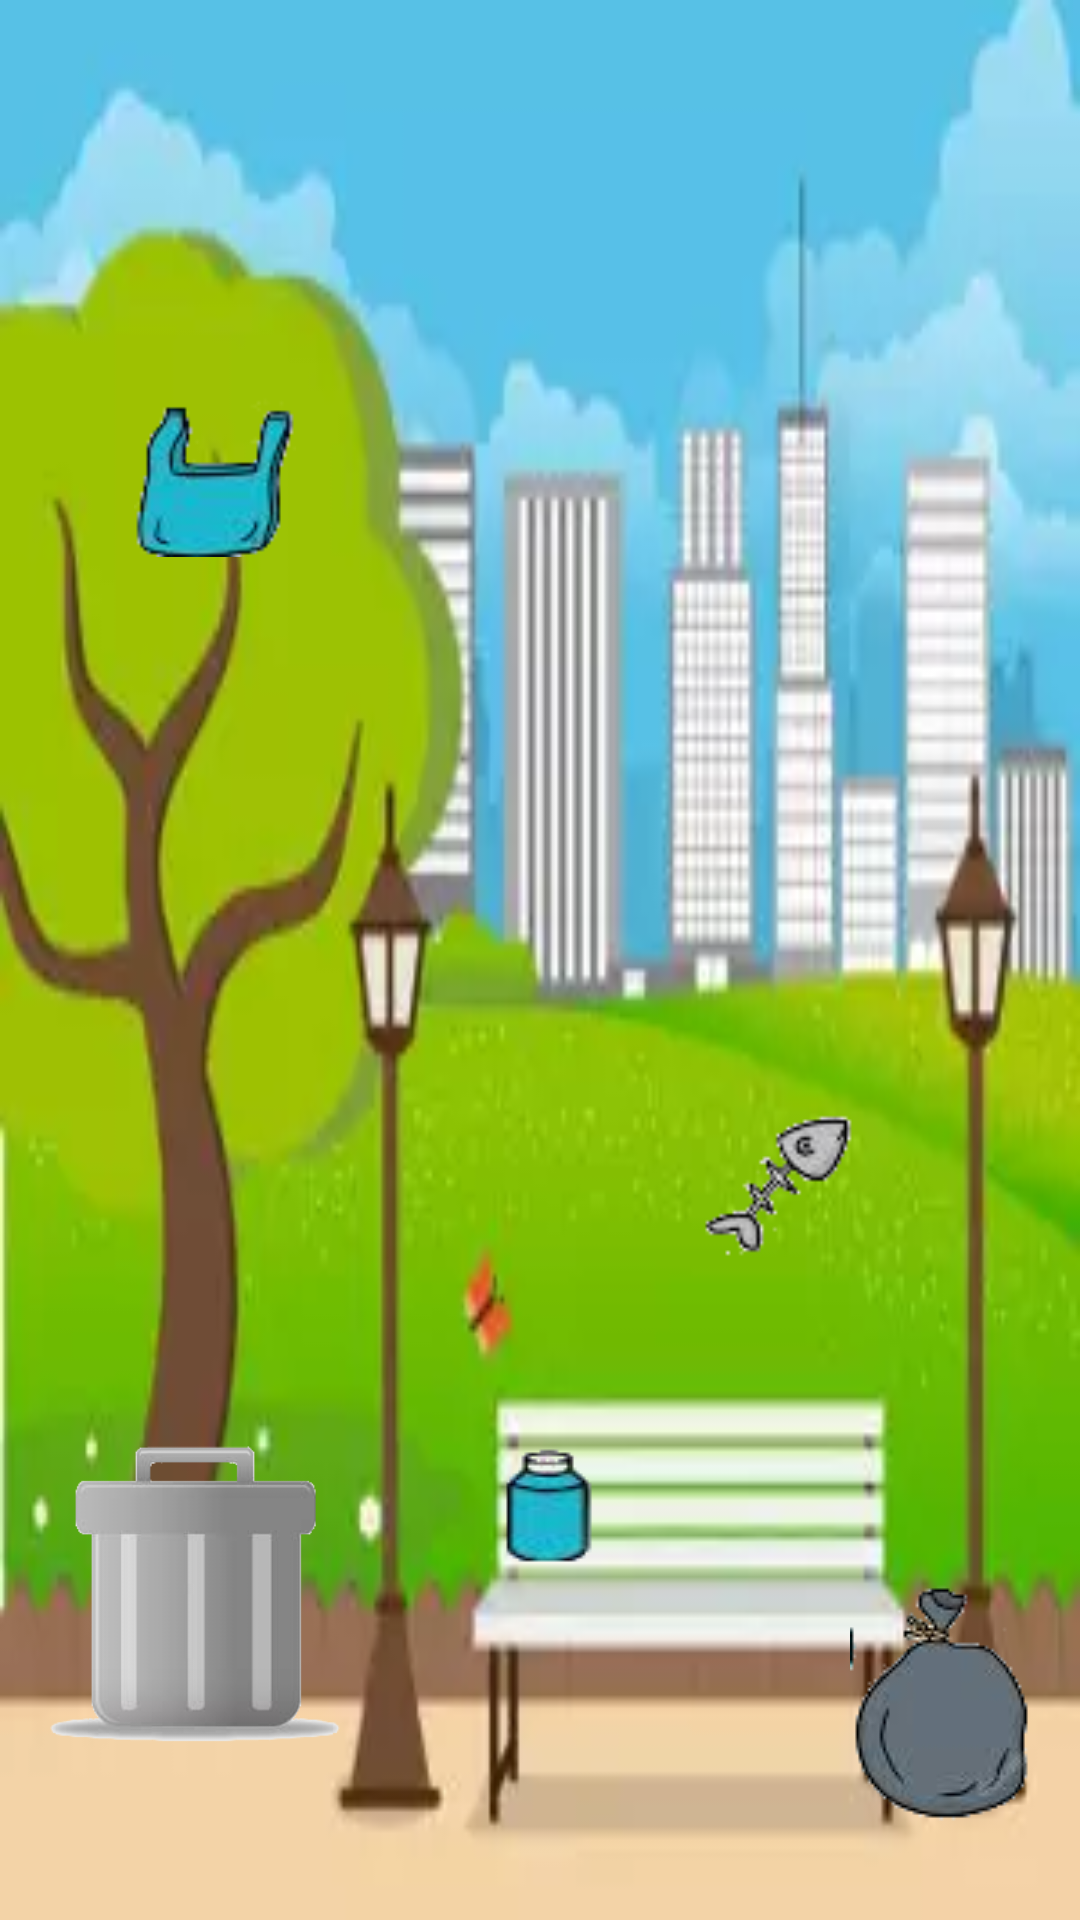

Named icons in this screenshot (1080 x 1920) and their centers, (x=x, y=y):
basura: (x=941, y=1706)
bolsa: (x=215, y=483)
fish: (x=777, y=1185)
